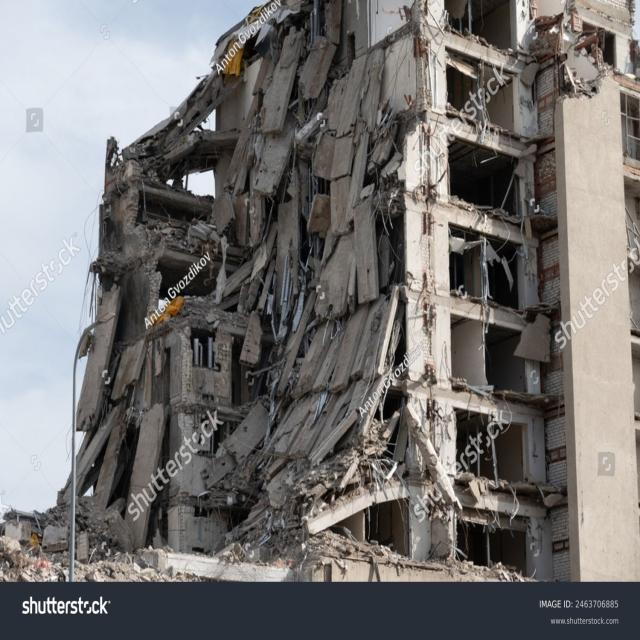Destroyed_building: (4, 0, 639, 578)
